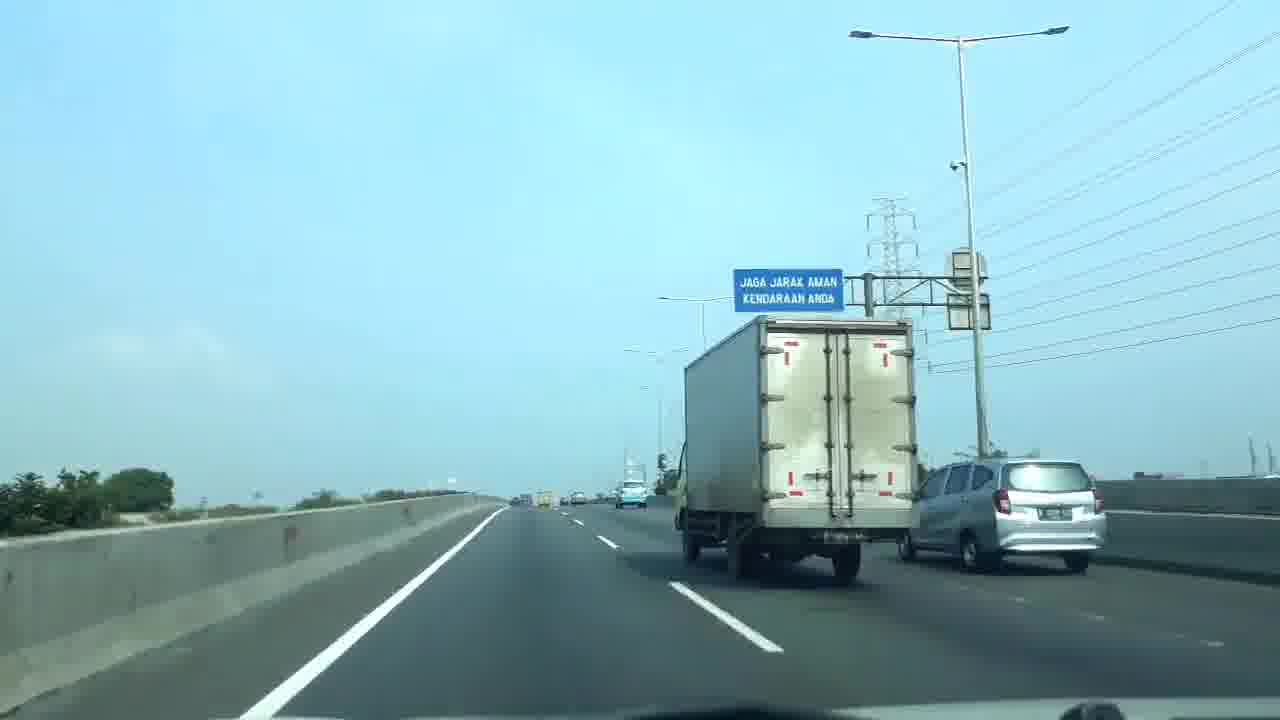plate_positive: (819, 528, 868, 544), (1037, 508, 1072, 520)
